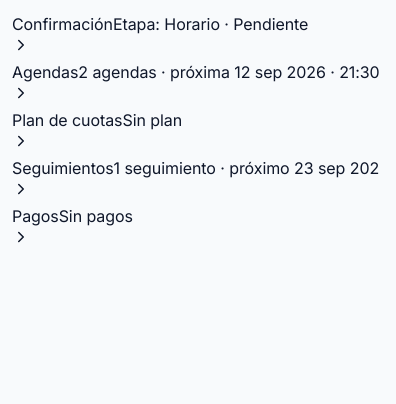
Test case: la objeción de una llamada que no cerró, en el historial › sin permiso de reportar se lee la objeción pero no se agrega ni se reemplaza
Click the button "Agendas2 agendas · próxima 12 sep 2026 · 21:30" at (196, 81), box 12,60 -> 380,102
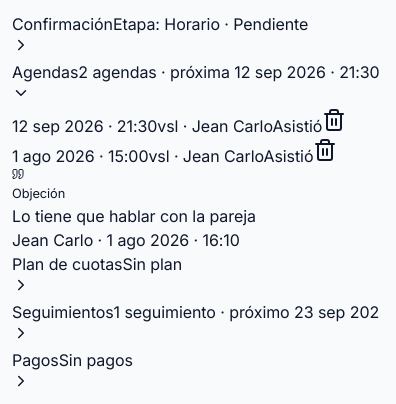
Check: the text "Lo tiene que hablar con la pareja" is shown, box 12,206 -> 256,226
